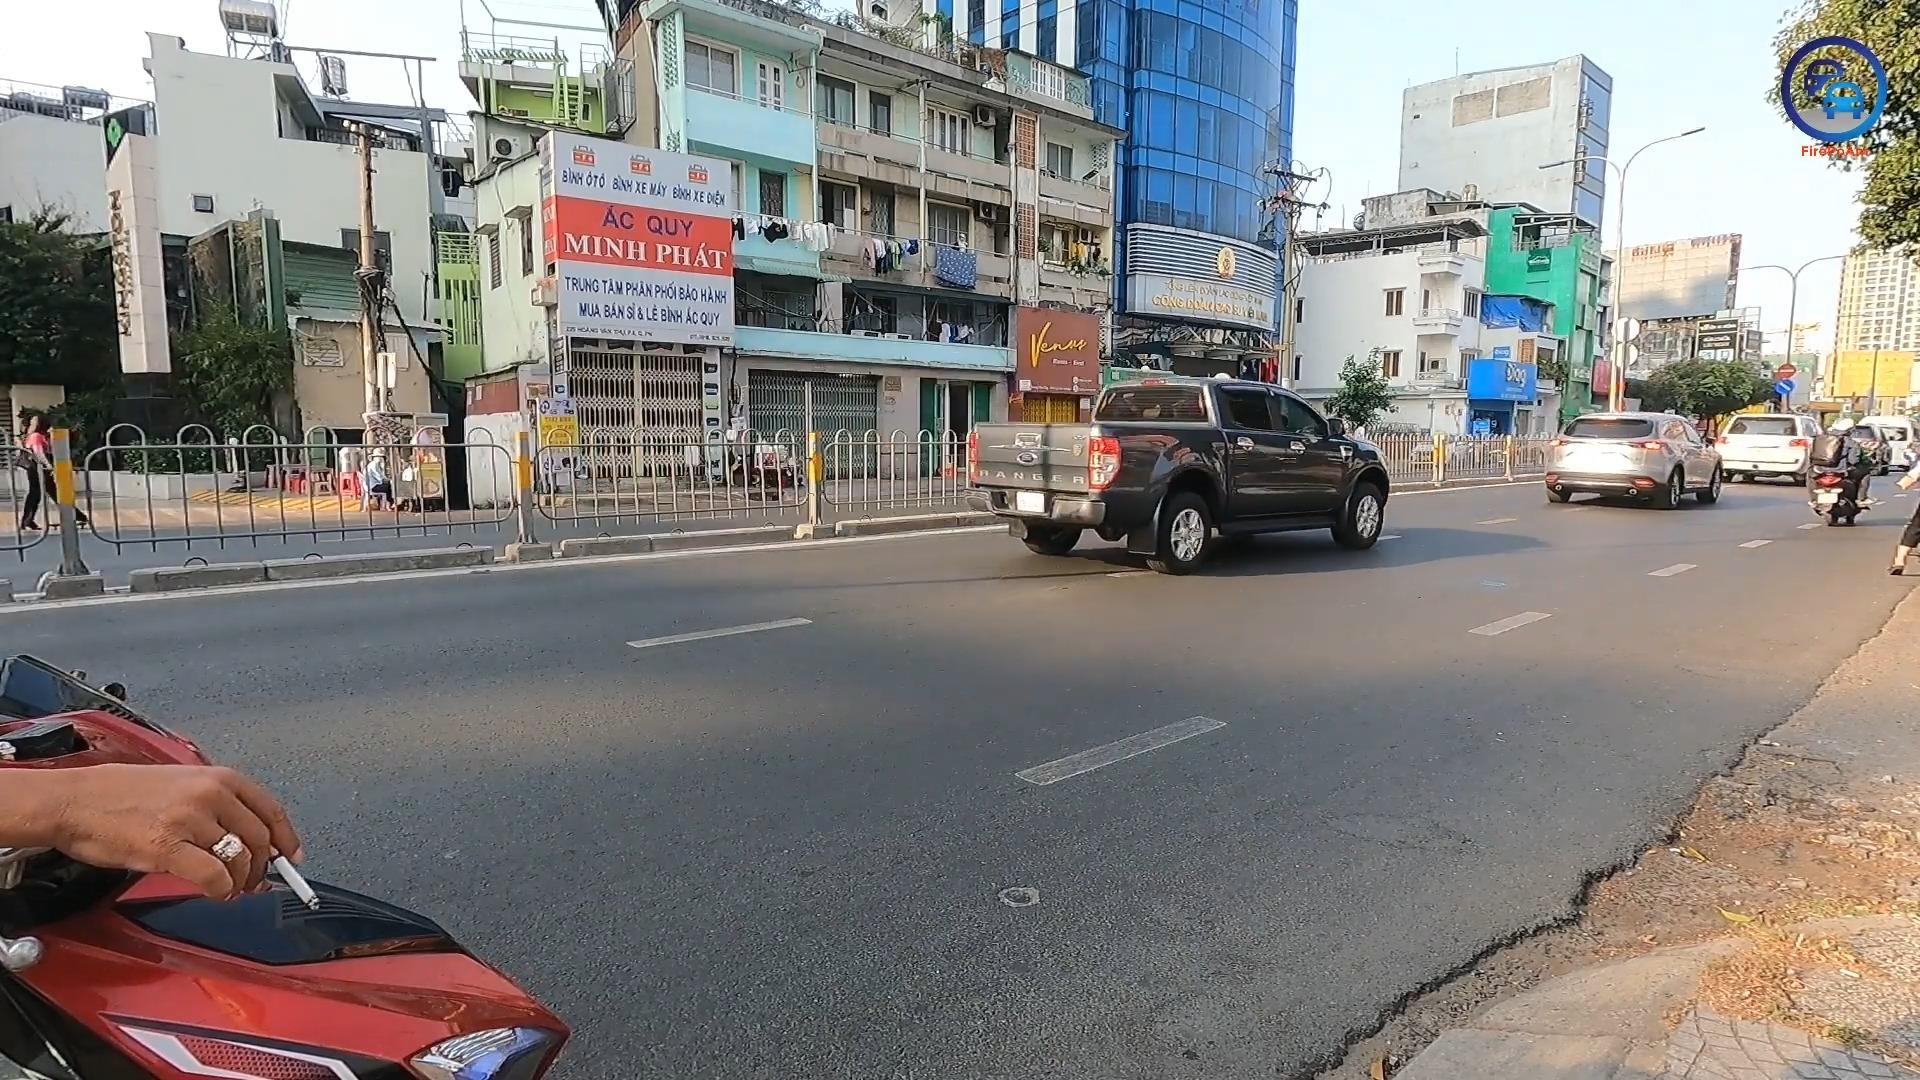bien_so: (1015, 489, 1047, 514)
